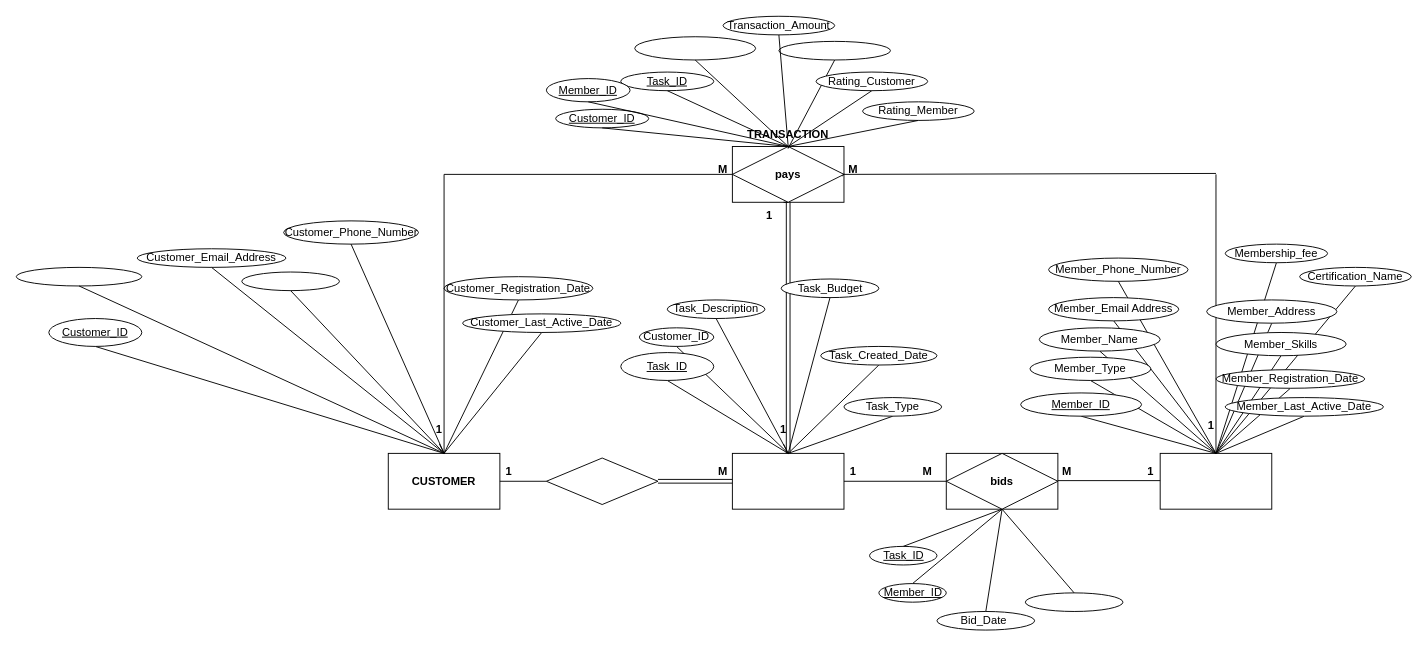
This 1428x646 diagram has some shape labels left out. The box of each missing label's shape, as (x1, y1, x2, y2) in pixels:
Bid_Amount: (1024, 592, 1123, 611)
Customer_Address: (241, 271, 339, 291)
Customer_Name: (15, 266, 142, 286)
MEMBER: (1159, 452, 1272, 509)
requests: (545, 457, 658, 505)
TASK: (731, 452, 844, 509)
Transaction_Date: (634, 36, 756, 60)
Transaction_Status: (778, 40, 890, 60)
